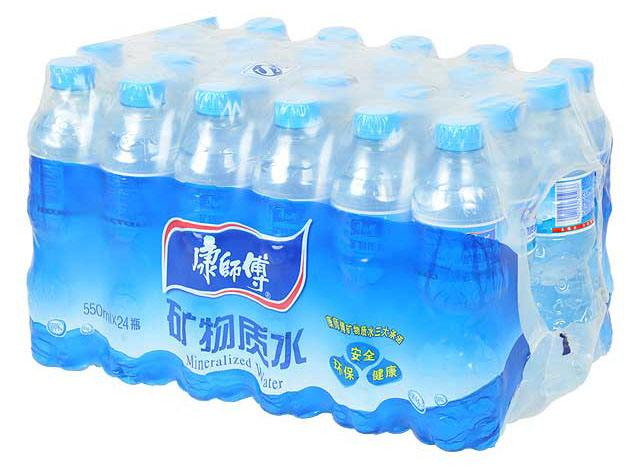amwater: (18, 7, 630, 462)
